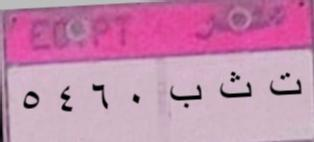0: (127, 89, 147, 110)
4: (56, 83, 78, 117)
5: (20, 85, 43, 117)
6: (88, 80, 111, 115)
baa: (167, 81, 205, 115)
taa: (264, 72, 306, 102)
thaa: (216, 70, 254, 105)
